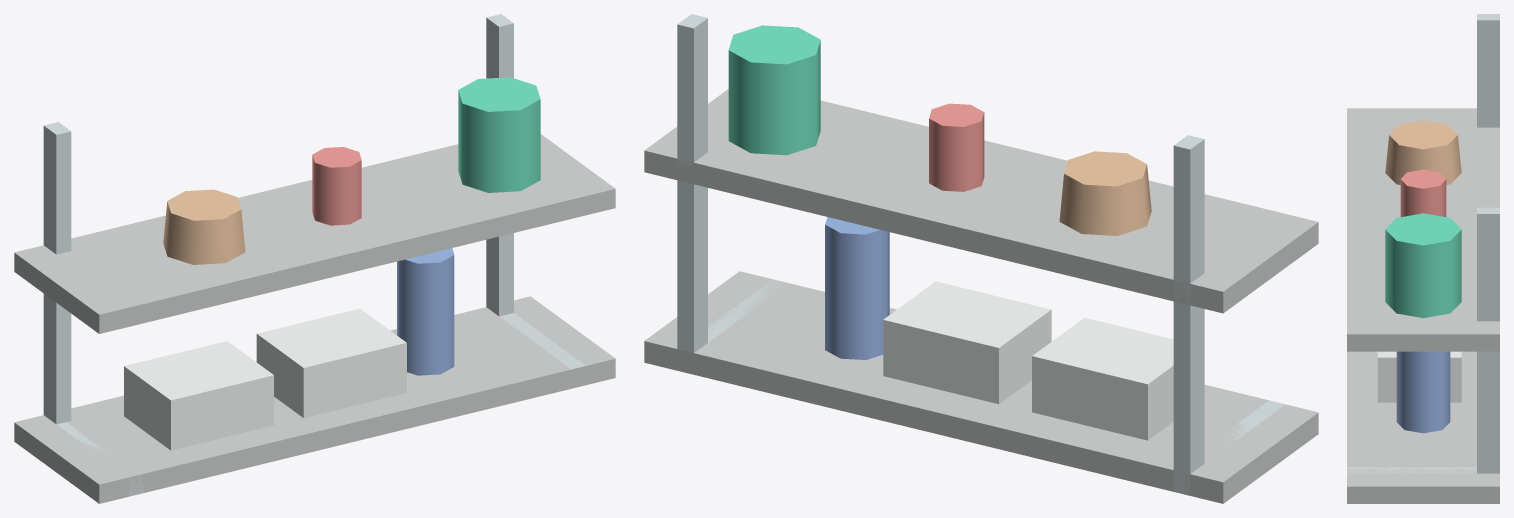
Rendered from bathShelf.glb.
The picture shows the model from 3 angles, left to right: view 1: azimuth 30°, elevation 25°; view 2: azimuth 150°, elevation 25°; view 3: azimuth 270°, elevation 25°; orthographic projection. The views are drawn at different scales.
Visible parts, largest first — view 1: bathShelf; view 2: bathShelf; view 3: bathShelf.
Part boxes in pixels (left/top/right/bottom): bathShelf: left=14, top=14, right=615, bottom=503; bathShelf: left=644, top=14, right=1318, bottom=503; bathShelf: left=1347, top=14, right=1499, bottom=503.
Size of the model in its own units: 0.35 by 0.2 by 0.1.
